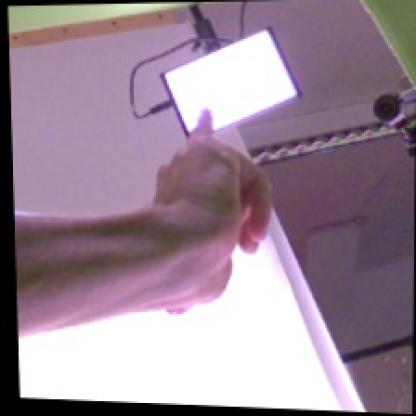Hand: (151, 103, 273, 313)
